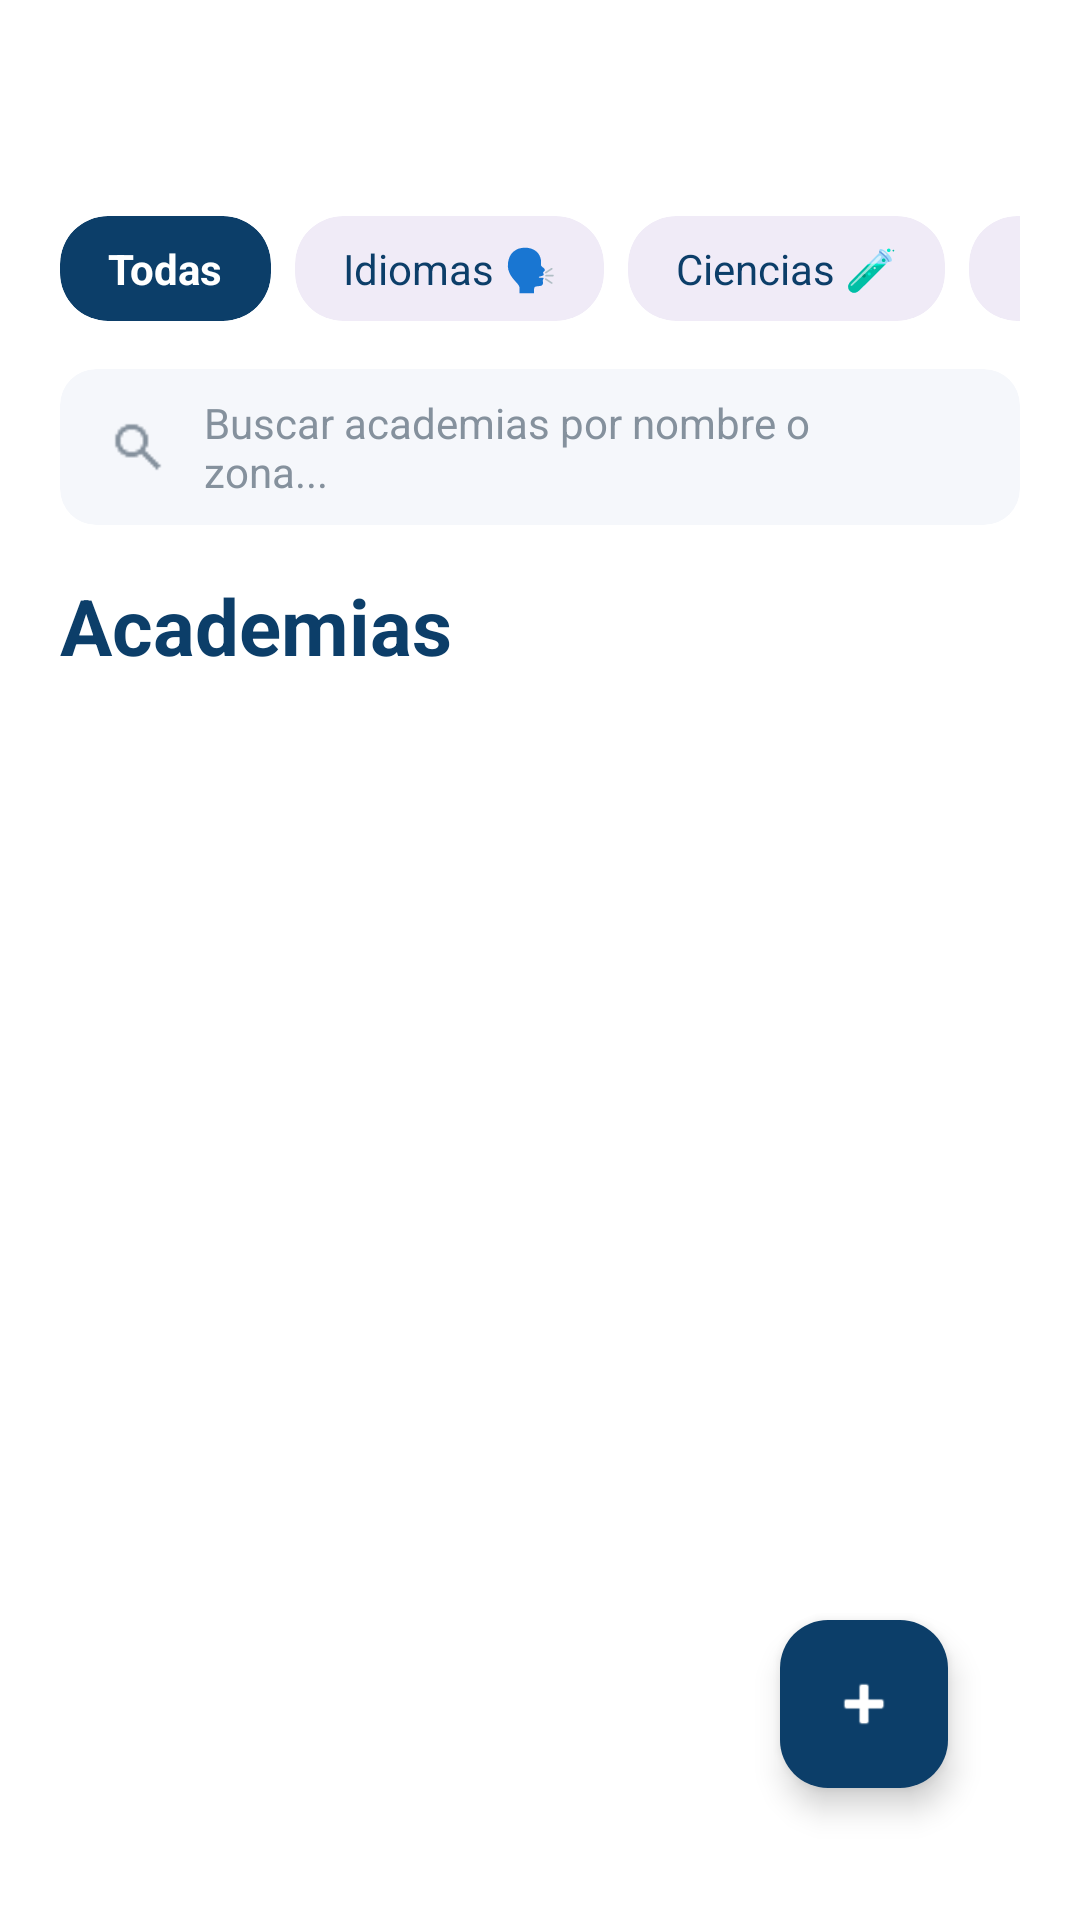

Icons on this 1080px x 1920px Android screen, each with the point to tap as (x=x, y=y):
Añadir academia: (x=864, y=1704)
lupa: (x=138, y=447)
